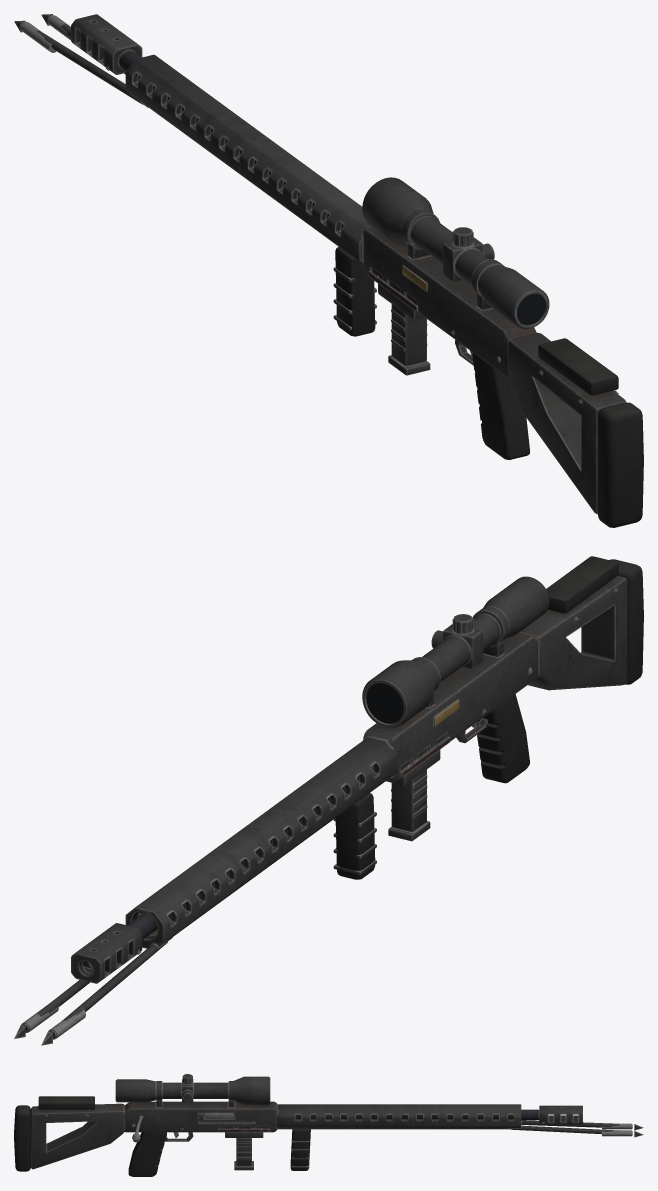
Rendered from explorer_sniper.glb.
3 renders of one model, top to bottom at view 1: azimuth 30°, elevation 25°; view 2: azimuth 150°, elevation 25°; view 3: azimuth 270°, elevation 25°, orthographic. The views are drawn at different scales.
Visible parts, largest first — view 1: explorer_sniper; view 2: explorer_sniper; view 3: explorer_sniper.
Boxes of the visible parts, <box> form: explorer_sniper: <box>14,14,643,527</box>; explorer_sniper: <box>14,556,643,1045</box>; explorer_sniper: <box>14,1074,643,1176</box>.
Bounding box in the file's own units: 0.1112 × 0.2757 × 1.6.
1 material, 1 textured.
